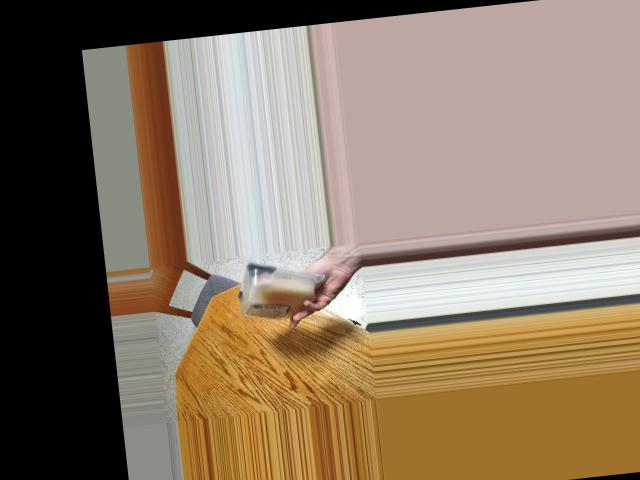cheese: (232, 257, 320, 327)
